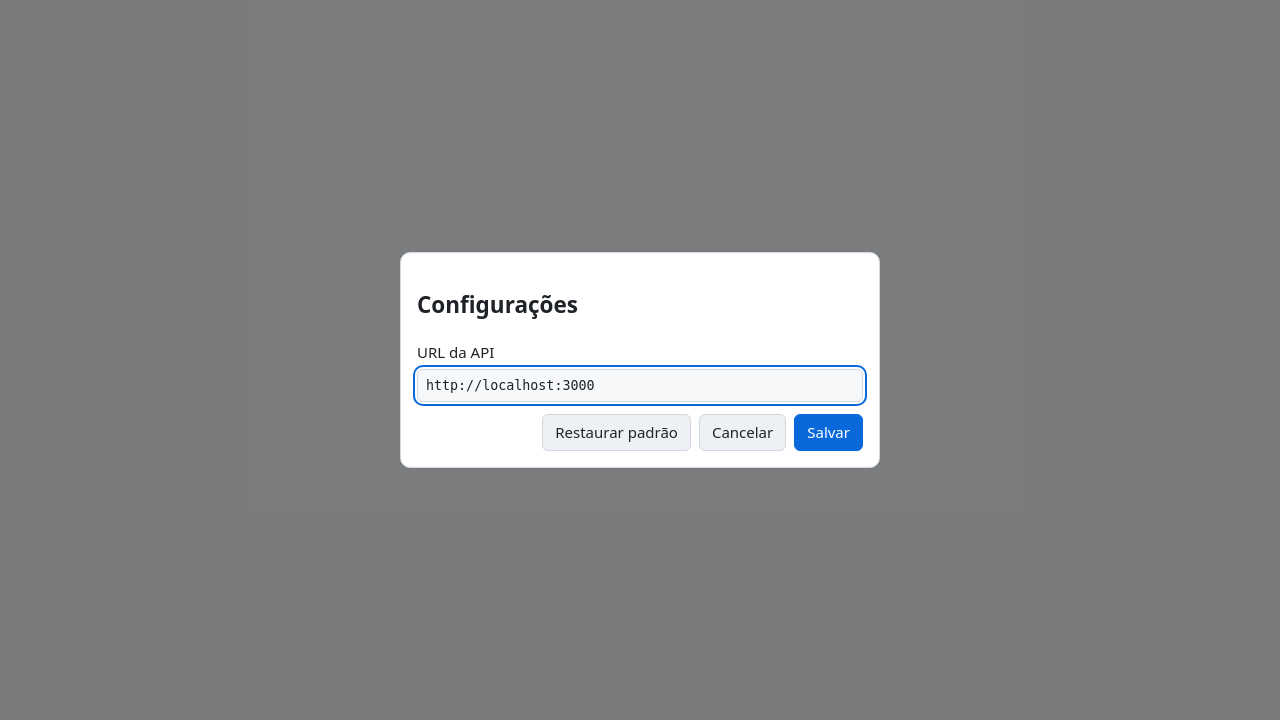
Test case: SettingsDialog (US4) › refuses  with an inline message
Clear the field labelled "URL da API" at point(640, 386), box top-left (417, 369), bottom-right (863, 402)
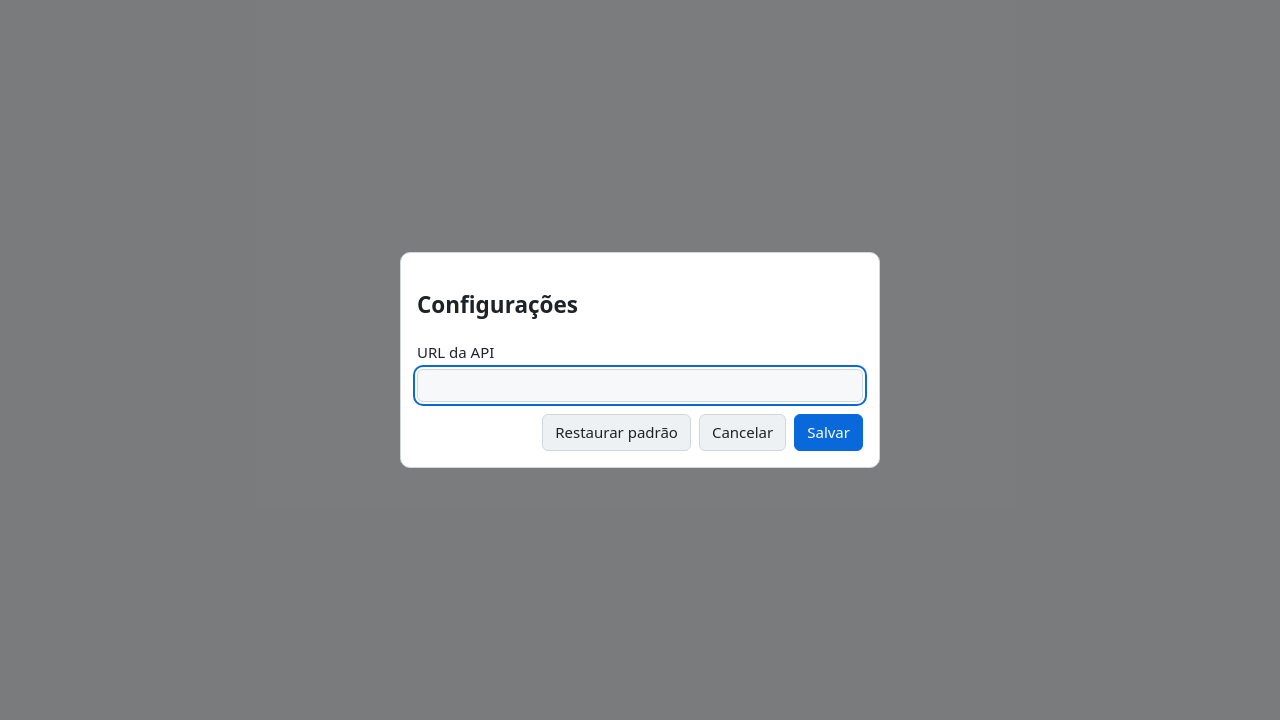
Click the button "Salvar" at point(829, 432), box top-left (794, 414), bottom-right (863, 450)
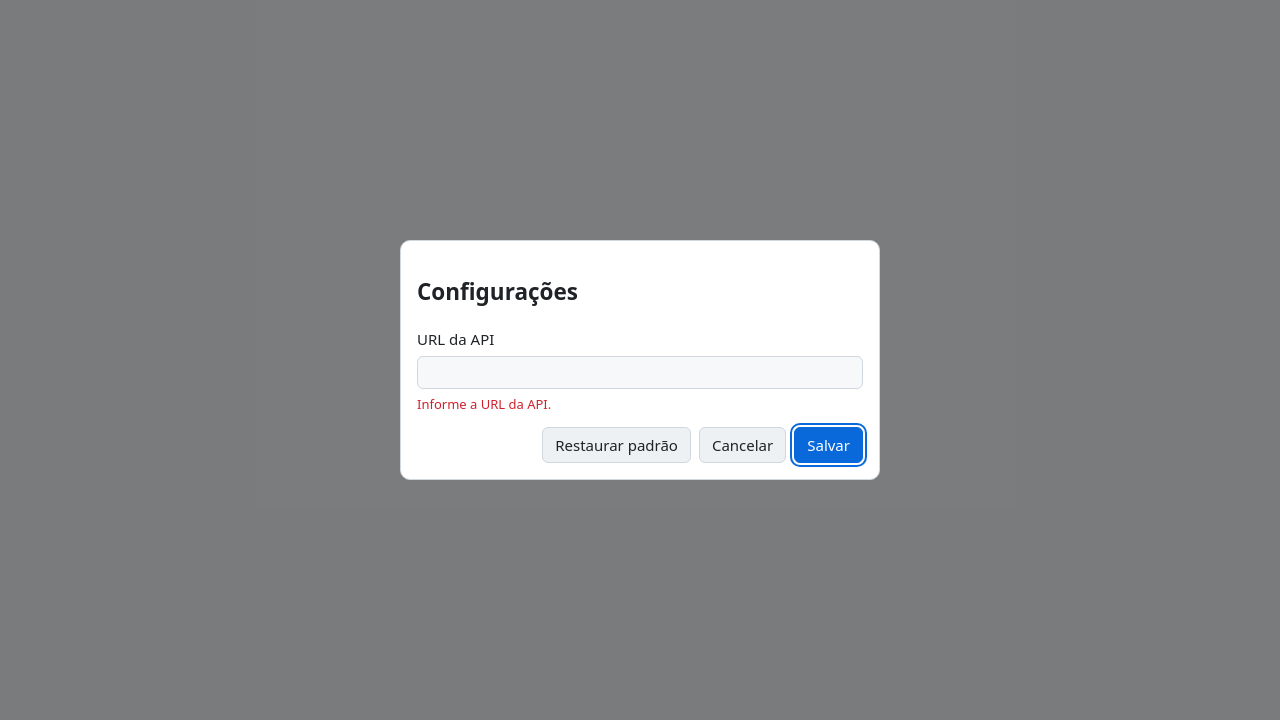
expect the message "Informe a URL da API." is shown: met, box top-left (417, 395), bottom-right (551, 413)
